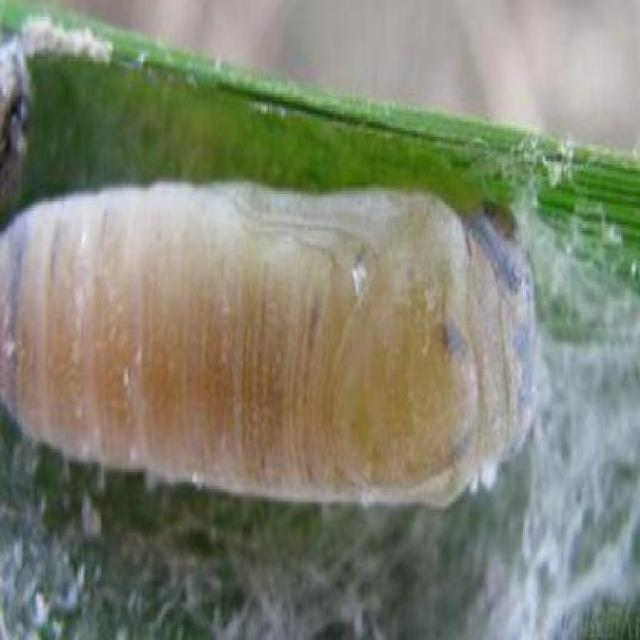leaf-folder: (52, 107, 531, 538)
